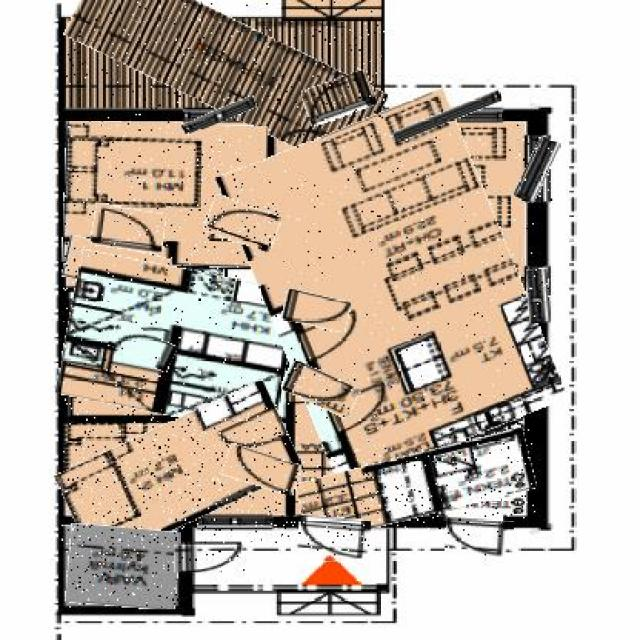door: (282, 366, 358, 411), (92, 206, 166, 252), (206, 202, 279, 248), (298, 517, 369, 563), (303, 76, 375, 121), (223, 449, 300, 491), (446, 518, 514, 562), (109, 326, 177, 366), (283, 294, 351, 331), (174, 545, 249, 572)
window: (391, 100, 503, 132), (522, 137, 556, 203), (182, 102, 258, 129), (528, 269, 549, 323)
zone: (243, 105, 540, 472), (63, 0, 386, 140), (62, 260, 296, 425), (60, 402, 298, 543), (63, 123, 268, 268), (298, 442, 536, 530), (66, 526, 179, 608), (63, 243, 171, 292)
